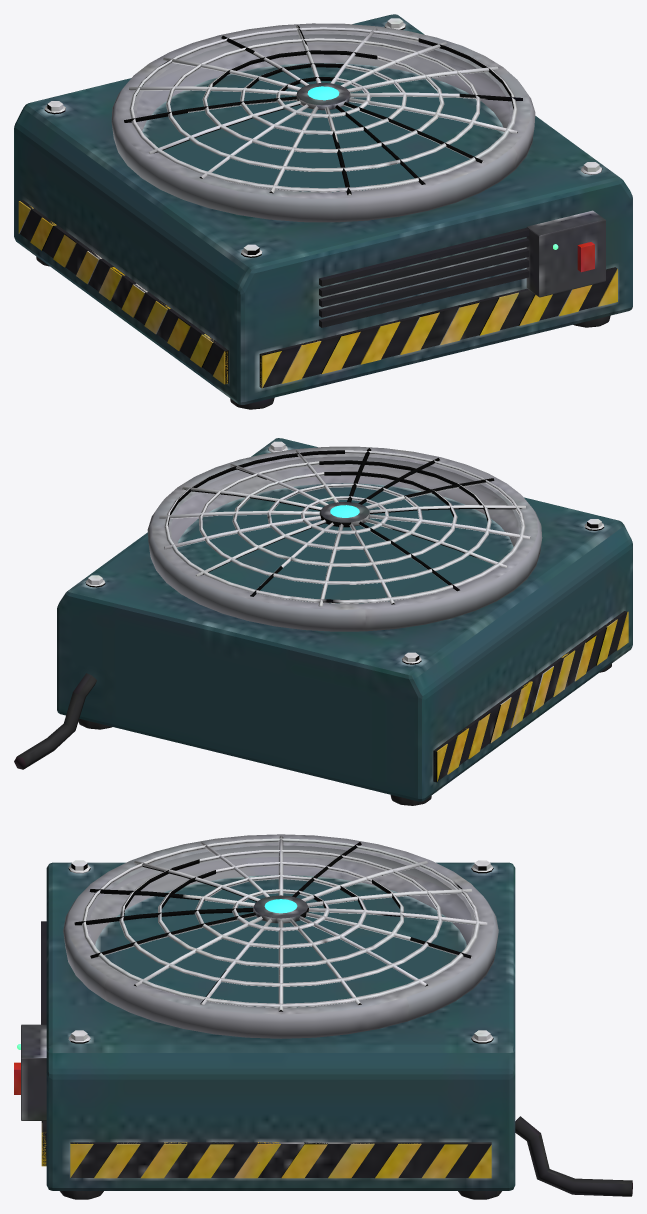
File: air_fan.glb
3 views of the same model, one above another, from view 1: azimuth 30°, elevation 25°; view 2: azimuth 150°, elevation 25°; view 3: azimuth 270°, elevation 25° (orthographic). The views are drawn at different scales.
Visible parts, largest first — view 1: body; view 2: body; view 3: body.
Part boxes in pixels (left/top/right/bottom): body: left=14, top=14, right=632, bottom=409; body: left=14, top=438, right=632, bottom=805; body: left=14, top=834, right=632, bottom=1199.
Bounding box in the file's own units: 2.04 × 0.947 × 2.64.
Materials: 3 (1 with a texture image).
